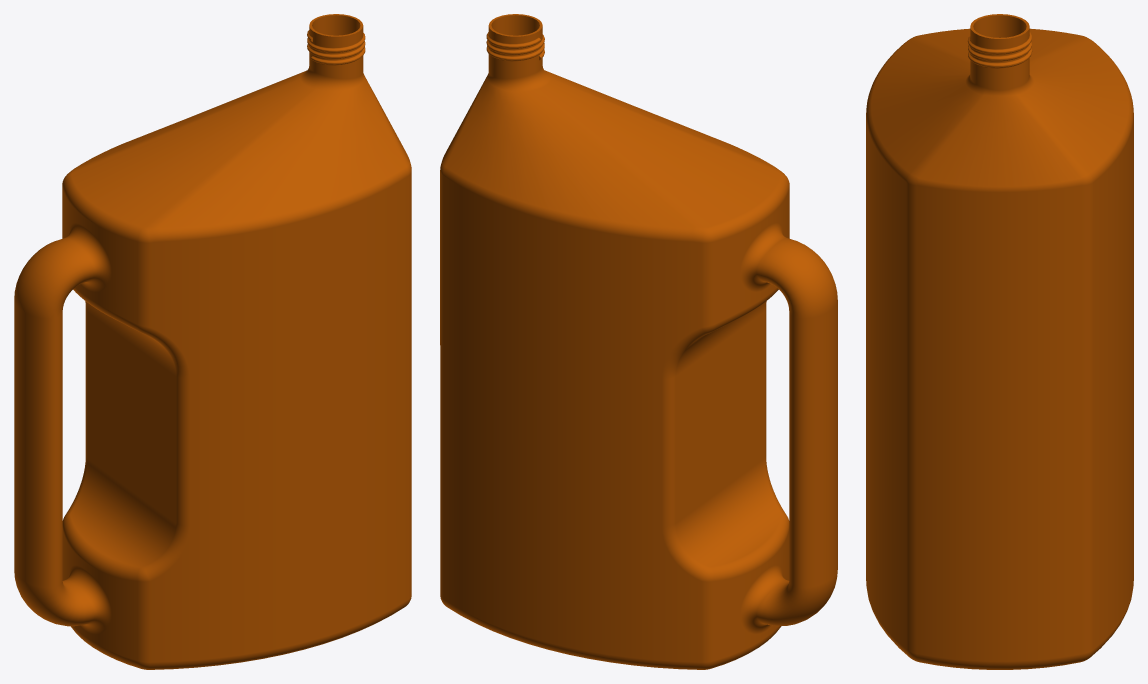
File: oil_Jug.gltf
The picture shows the model from 3 angles, left to right: view 1: azimuth 30°, elevation 25°; view 2: azimuth 150°, elevation 25°; view 3: azimuth 270°, elevation 25°; orthographic projection. The views are drawn at different scales.
Visible parts, largest first — view 1: Oil Jug; view 2: Oil Jug; view 3: Oil Jug.
Boxes of the visible parts, box(x1,y1,x2,y2) form: Oil Jug: box(14, 14, 411, 669); Oil Jug: box(440, 14, 837, 669); Oil Jug: box(866, 14, 1133, 669).
Bounding box in the file's own units: 0.2 × 0.2921 × 0.1143.
